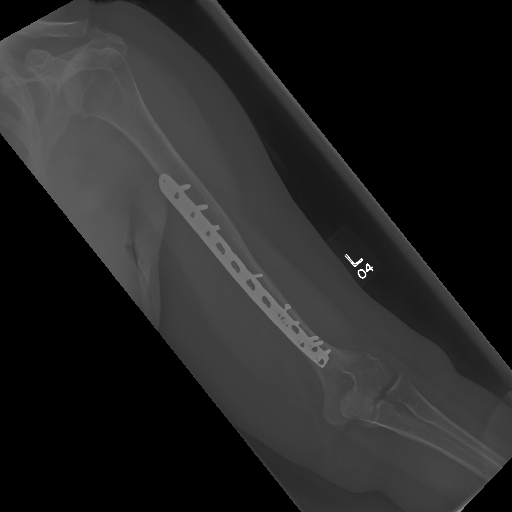implant: (154, 171, 225, 245), (265, 294, 332, 367)
